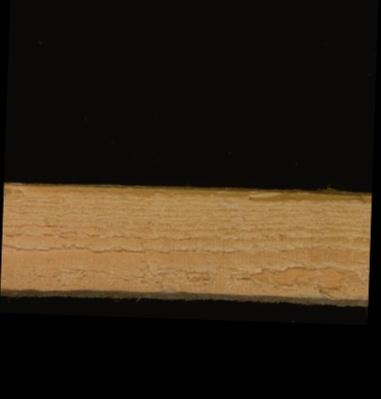wave: (2, 183, 371, 201)
